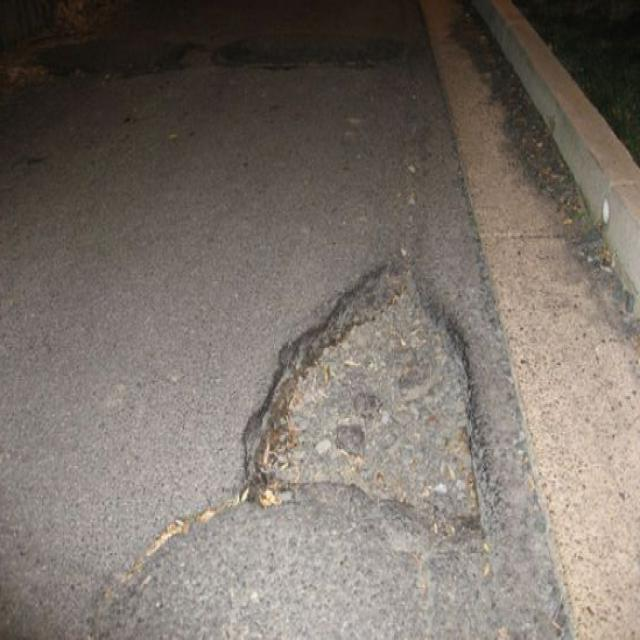Pothole: (239, 244, 503, 546)
